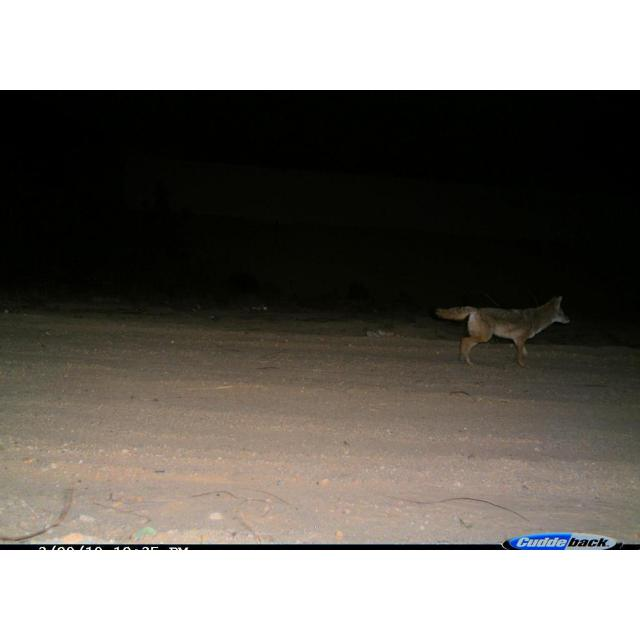animals: (430, 288, 574, 368)
